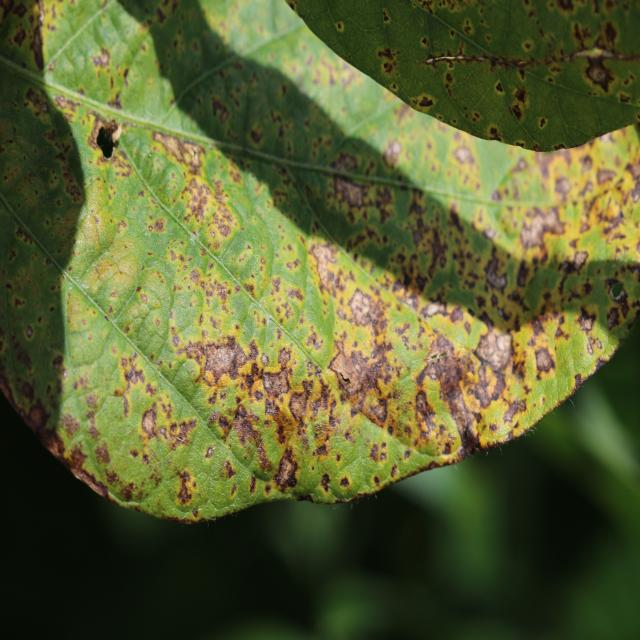Bacterial_Blight: (582, 180, 634, 245), (182, 176, 226, 233), (342, 219, 392, 265), (47, 152, 83, 208), (445, 384, 480, 438), (521, 268, 560, 315), (151, 130, 198, 168), (475, 327, 513, 373), (329, 347, 368, 390), (204, 342, 240, 385), (86, 113, 122, 155), (421, 220, 450, 272), (230, 401, 262, 448), (311, 242, 339, 289), (70, 462, 107, 496), (584, 56, 616, 93), (272, 450, 300, 490), (347, 288, 376, 325), (172, 362, 200, 400), (335, 176, 366, 209), (119, 353, 147, 389), (141, 397, 163, 441), (202, 276, 232, 308), (23, 84, 51, 117), (30, 13, 45, 71), (26, 398, 52, 431), (502, 398, 526, 426), (175, 471, 194, 504), (60, 412, 81, 441), (288, 390, 308, 420), (598, 20, 619, 47), (535, 346, 555, 373), (486, 266, 507, 291), (211, 96, 230, 123), (367, 400, 388, 424), (91, 47, 111, 70), (384, 139, 402, 164), (516, 260, 532, 288), (453, 145, 474, 165), (94, 441, 111, 465), (570, 250, 589, 271), (424, 300, 446, 318), (607, 307, 623, 330), (577, 312, 594, 332), (378, 47, 399, 63), (413, 94, 435, 109), (512, 87, 528, 107), (150, 217, 166, 233), (224, 459, 236, 480), (250, 128, 262, 144), (369, 442, 379, 461), (320, 473, 331, 490), (111, 92, 122, 109), (573, 373, 583, 390), (249, 475, 257, 494), (339, 475, 350, 488), (205, 445, 215, 459), (489, 126, 499, 139), (25, 325, 33, 339), (382, 10, 390, 23), (495, 82, 504, 93), (421, 38, 429, 48), (539, 118, 546, 128), (336, 22, 343, 31)
Soybean: (0, 2, 640, 521)
